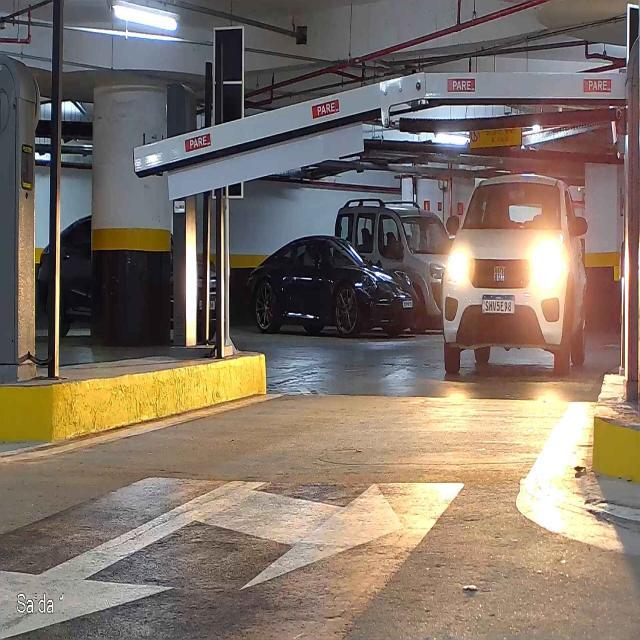mercosul_plate: (481, 293, 516, 315)
